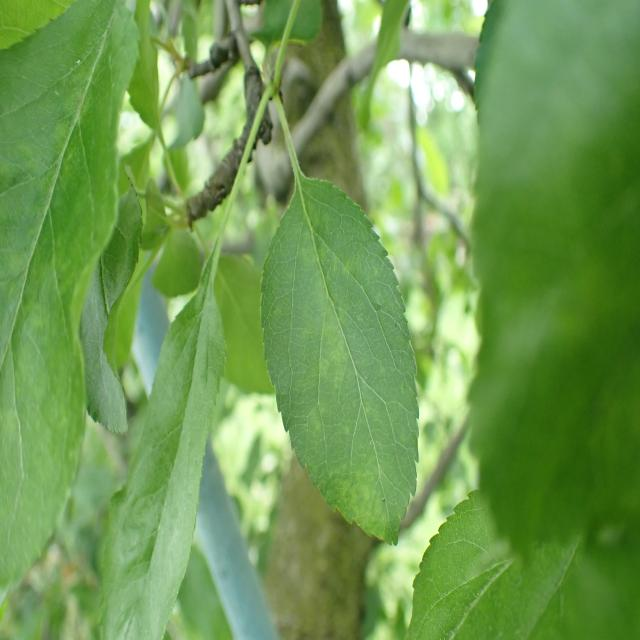scab: (272, 207, 415, 528)
